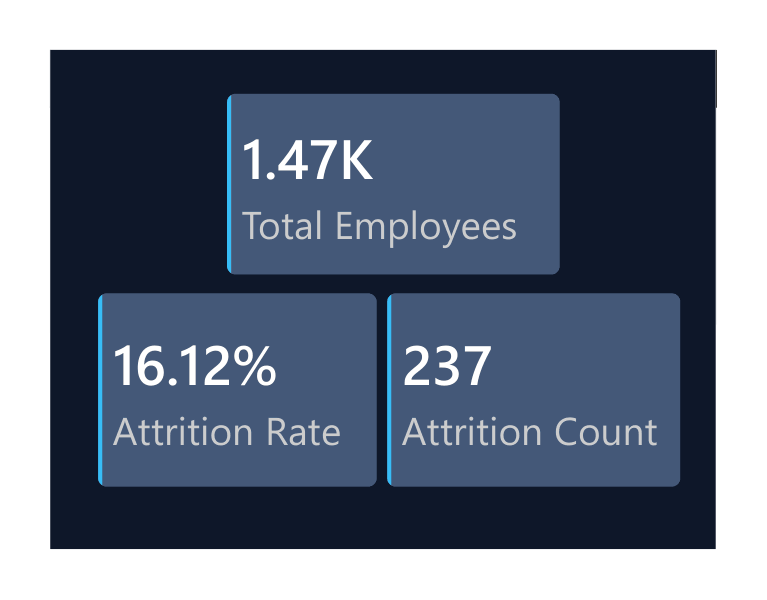

The dashboard page shown, as its layout file describes it:
{"tool":"powerbi","page":{"name":"Tooltip","canvas":[320,240],"ordinal":3},"visuals":[{"type":"cardVisual","fields":{"Data":["employees.Total Employees"]},"box":[68.2,4.1,194.1,121.2],"z":0},{"type":"cardVisual","fields":{"Data":["employees.Attrition Count"]},"box":[144.7,100,175.3,127.1],"z":1000},{"type":"cardVisual","fields":{"Data":["employees.Attrition Rate"]},"box":[5.9,100,168.2,127.1],"z":2000}]}

Visuals, with their boxes on the page's 320x240 design canvas (x1, y1, x2, y2). These are canvas units, not pixel positions in the 767x600 screenshot, which may show the page scaled, cropped or inside an application window:
cardVisual - employees.Total Employees: 68 4 262 125
cardVisual - employees.Attrition Count: 145 100 320 227
cardVisual - employees.Attrition Rate: 6 100 174 227
